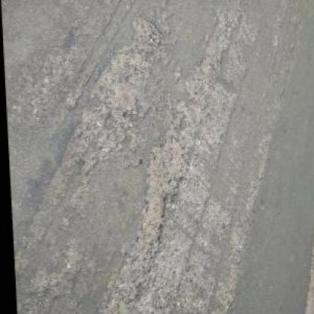Hueco: (130, 140, 190, 246), (183, 35, 232, 105), (134, 17, 162, 49)
